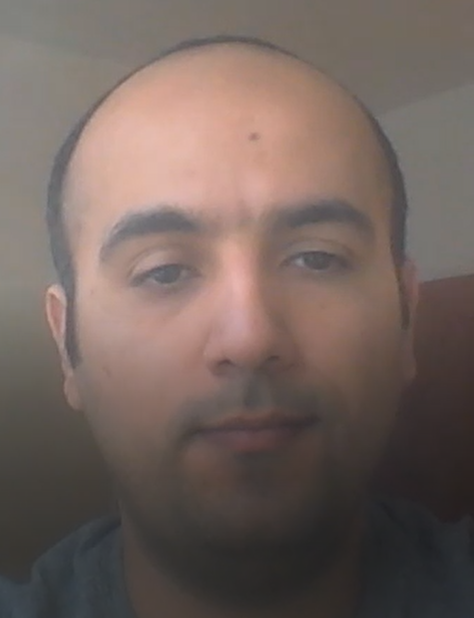Not Sleeping: (100, 198, 386, 310)
